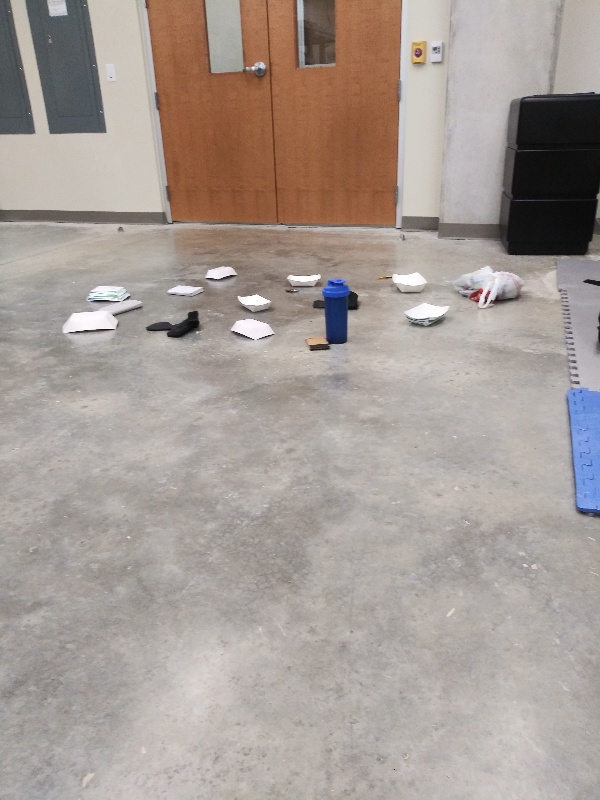plate: (59, 307, 124, 339), (401, 299, 453, 327), (225, 315, 276, 340), (387, 269, 429, 295), (84, 283, 133, 302), (233, 292, 276, 313), (200, 261, 239, 280), (280, 271, 322, 288)
